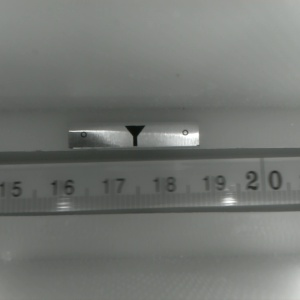0: (267, 170, 282, 191)
1: (151, 177, 159, 192), (201, 176, 209, 191), (101, 179, 109, 194), (50, 180, 58, 195), (0, 181, 6, 197)
2: (244, 170, 258, 190)
5: (11, 181, 22, 197)
6: (63, 179, 74, 195)
7: (115, 178, 125, 193)
8: (165, 177, 175, 192)
9: (215, 175, 226, 190)
finger: (122, 125, 145, 147)
